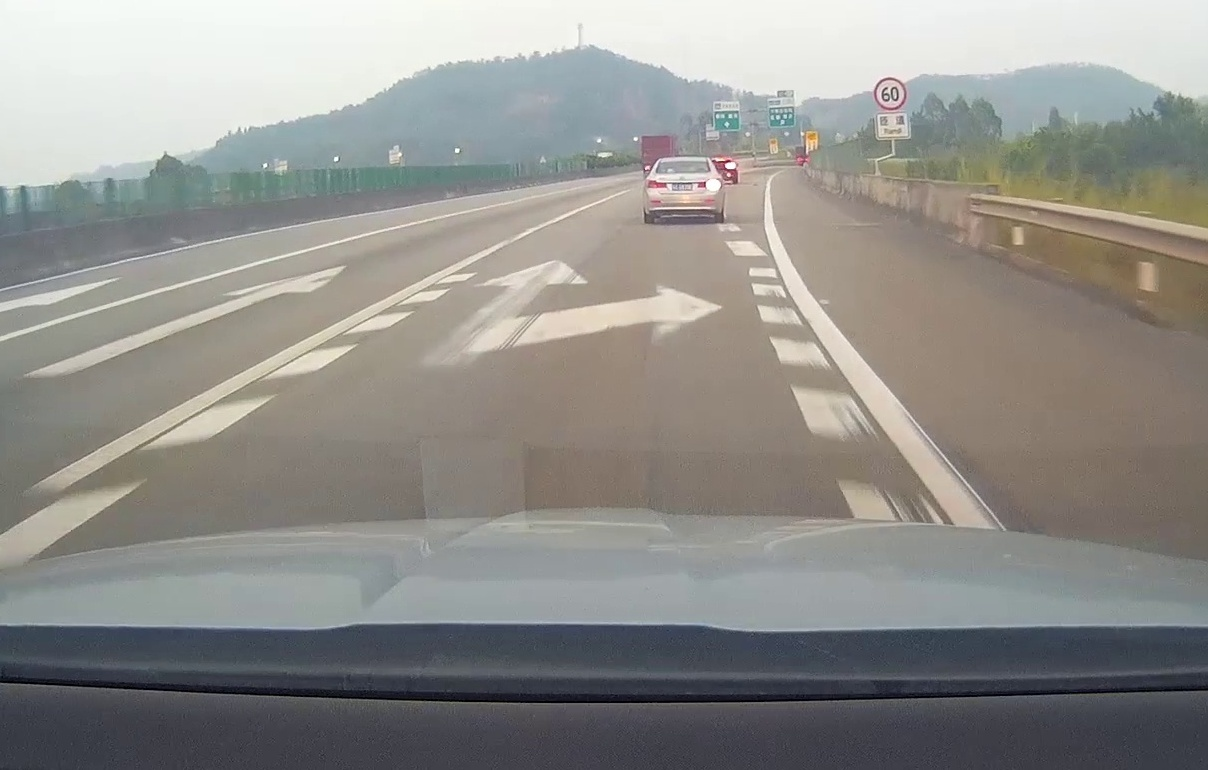L_light: (646, 180, 666, 189)
R_light: (697, 179, 719, 189)
T_light: (677, 160, 689, 163)
day-right: (643, 156, 724, 223)
